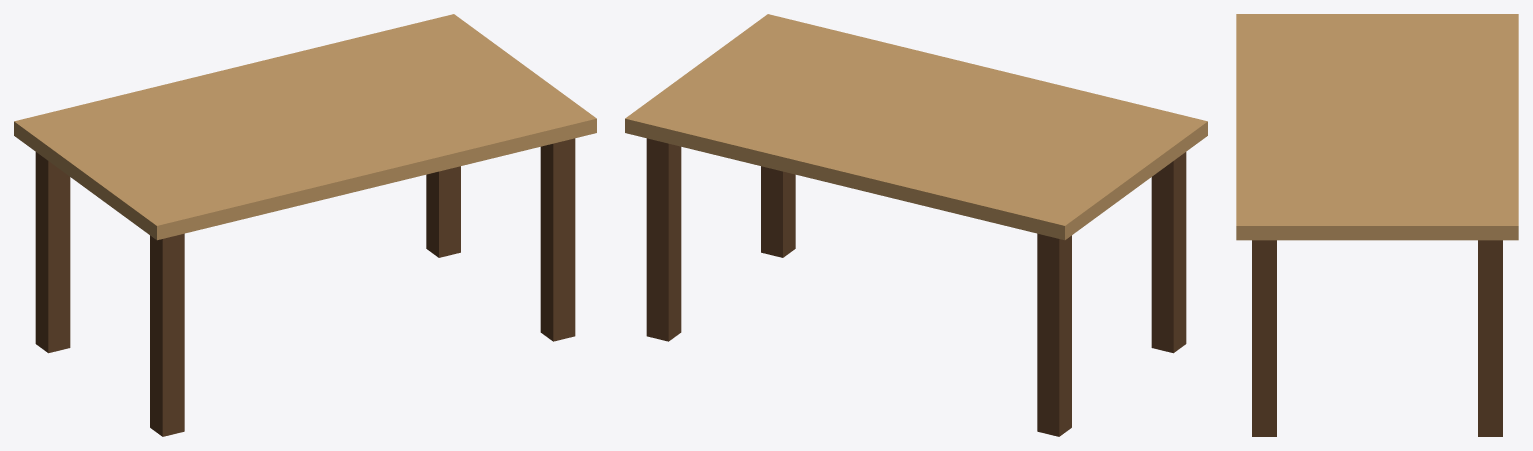
The model's file is GH_Table_Dining_01.glb.
3 renders of one model, left to right at view 1: azimuth 30°, elevation 25°; view 2: azimuth 150°, elevation 25°; view 3: azimuth 270°, elevation 25°, orthographic.
Parts seen in each view (by area): view 1: GH_Table_Dining_01; view 2: GH_Table_Dining_01; view 3: GH_Table_Dining_01.
Part boxes in pixels (x1=…): GH_Table_Dining_01: x1=14, y1=14, x2=596, y2=436; GH_Table_Dining_01: x1=625, y1=14, x2=1207, y2=436; GH_Table_Dining_01: x1=1236, y1=14, x2=1518, y2=436.
Bounding box in the file's own units: 1.6 × 0.765 × 0.9.
1 material, 1 textured.
